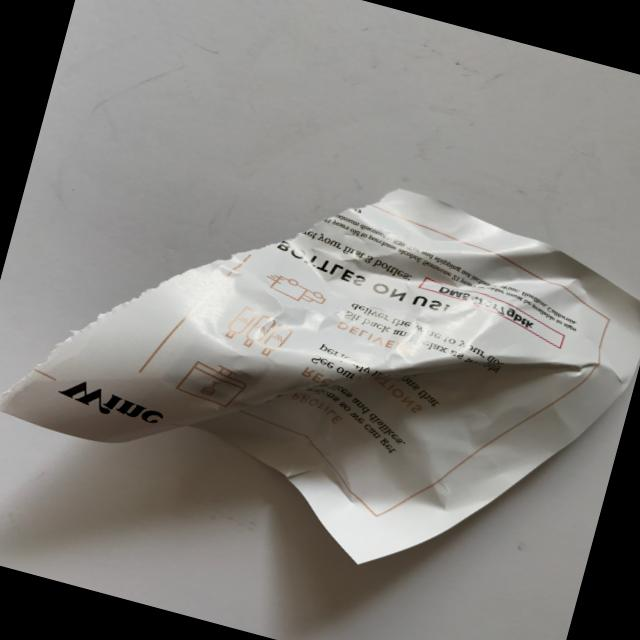Paper: (0, 81, 640, 636)
